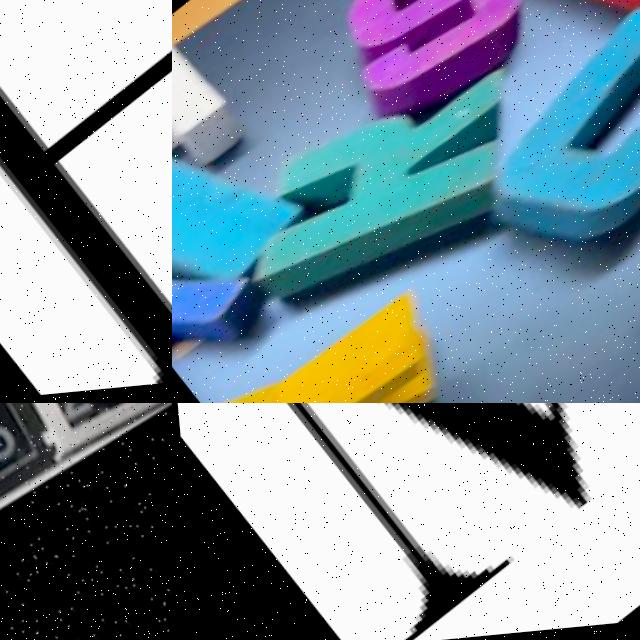2: (21, 403, 94, 437)
5: (0, 403, 23, 481)
H: (0, 50, 172, 389), (172, 21, 246, 237)
M: (172, 403, 640, 640)
S: (303, 0, 575, 140)
